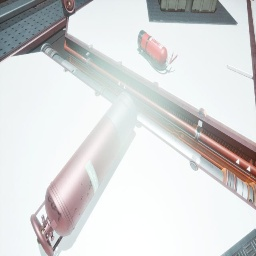FireExtinguisher ]: (137, 30, 178, 71)
NitrogenTank ,: (30, 92, 137, 256), (62, 0, 75, 14)
